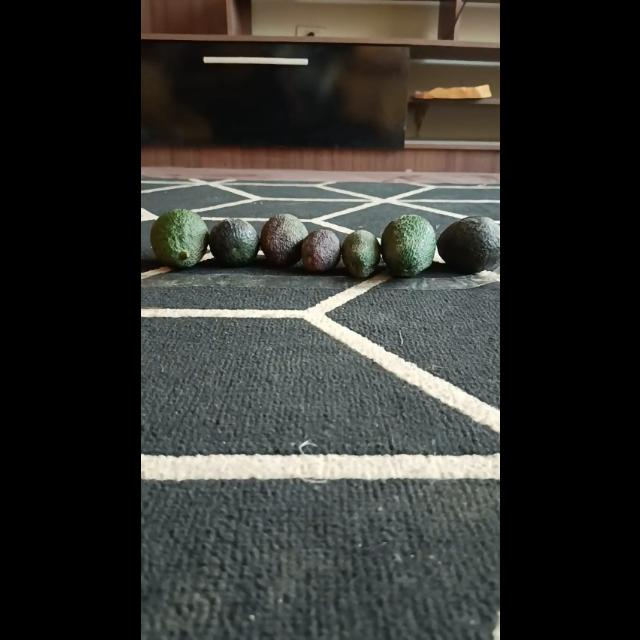Primera: (380, 215, 438, 278), (148, 208, 208, 268), (436, 216, 498, 274)
Segunda: (260, 212, 308, 268), (208, 217, 258, 267)
Tercera: (341, 230, 381, 278), (300, 229, 340, 273)
